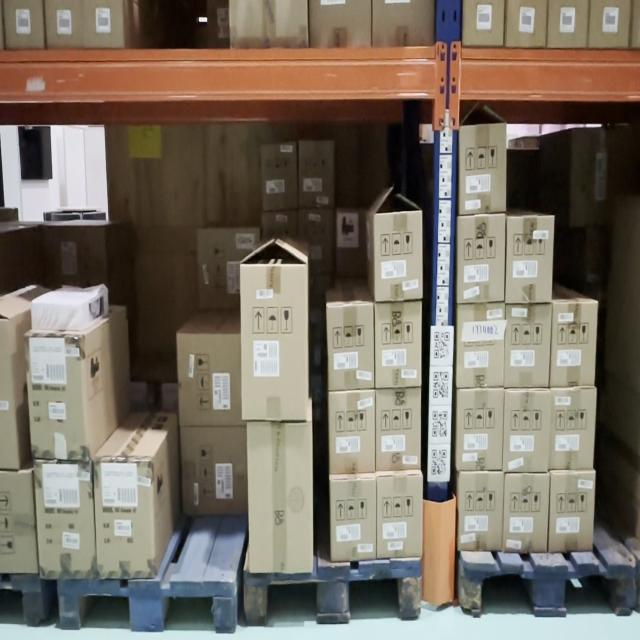box: (242, 265, 306, 419), (250, 422, 311, 574), (29, 335, 84, 459), (98, 466, 151, 576), (178, 336, 241, 423), (42, 465, 90, 577), (184, 429, 245, 513), (460, 127, 505, 211), (506, 216, 551, 300), (377, 302, 422, 386), (375, 218, 422, 298), (460, 217, 504, 302), (458, 306, 504, 386), (548, 389, 594, 469), (328, 308, 374, 386), (505, 306, 549, 387), (378, 477, 422, 558), (503, 473, 549, 550), (330, 393, 374, 473), (331, 480, 376, 558), (459, 392, 502, 469), (377, 392, 420, 468), (506, 391, 547, 470), (555, 302, 594, 383), (458, 475, 502, 546), (552, 476, 592, 550), (263, 148, 297, 208), (300, 139, 330, 203), (33, 305, 83, 330)
